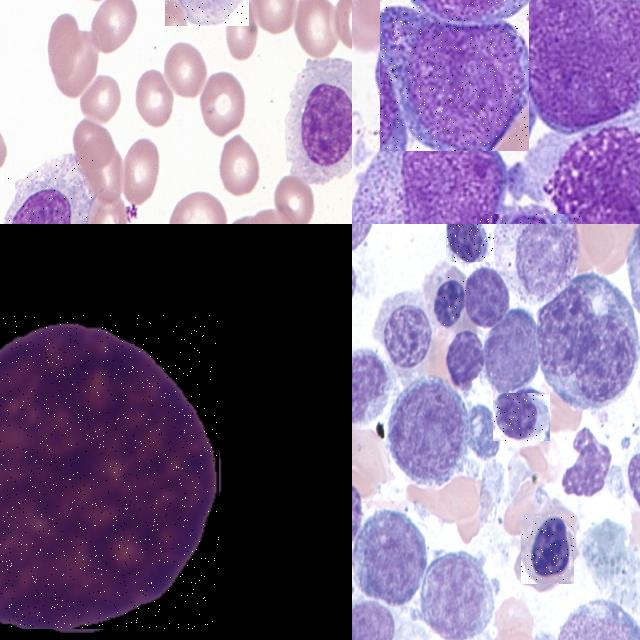ALL Negative Cells: (386, 380, 468, 483), (288, 59, 352, 178), (3, 156, 93, 224), (376, 288, 432, 372), (551, 602, 640, 640), (352, 350, 387, 423), (165, 0, 249, 25)
ALL Positive Cell: (0, 315, 219, 629), (379, 0, 529, 151), (521, 514, 574, 584), (493, 393, 550, 441), (431, 276, 469, 328), (446, 224, 493, 261)
